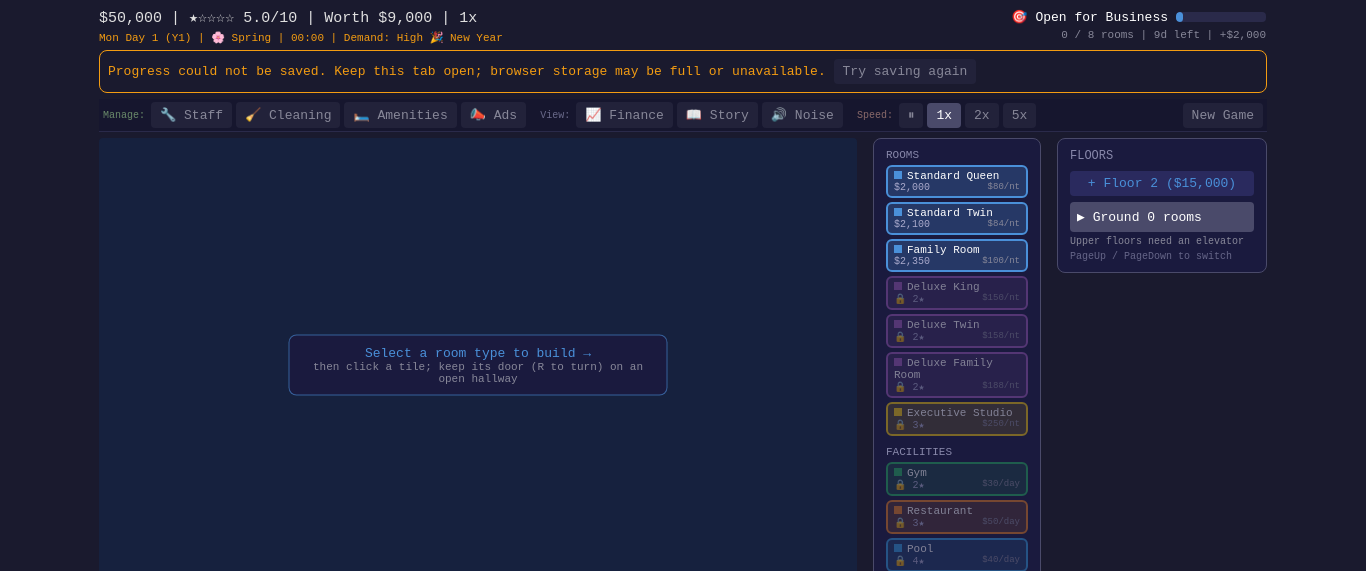
Test case: Interface › shows a storage failure and lets the player retry saving
Expected: the message shows "Progress could not be saved", [108,64,826,79]
Click the button "Try saving again" at coordinates (905, 72), box [834,59,976,84]
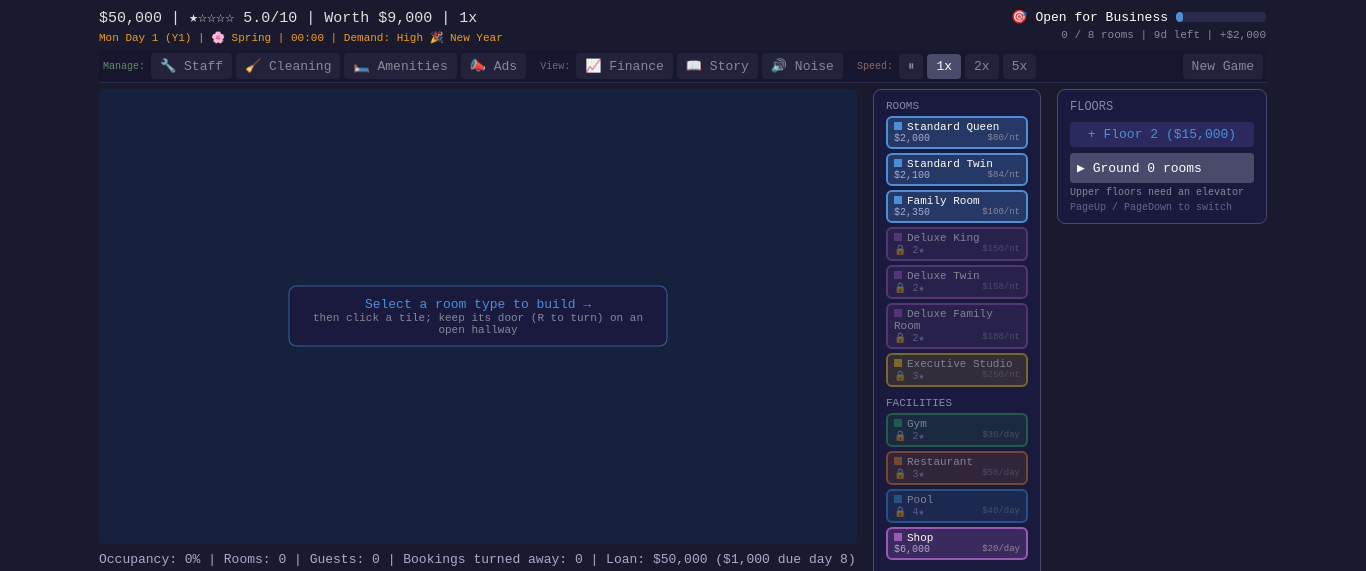
Expected: the message "Progress could not be saved. Keep this tab open; browser storage may be full or" is gone
